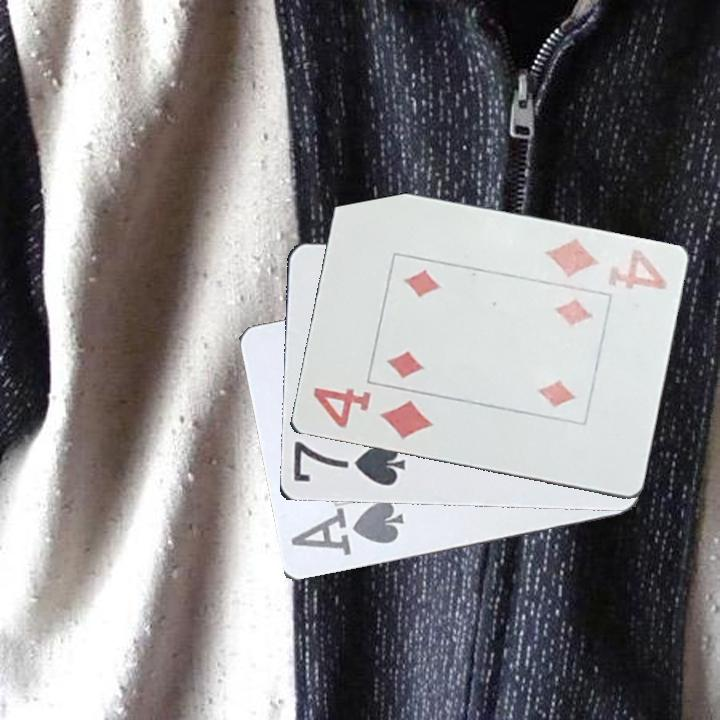4d: (541, 234, 670, 296), (309, 384, 436, 444)
7s: (289, 438, 408, 490)
As: (287, 499, 407, 559)
